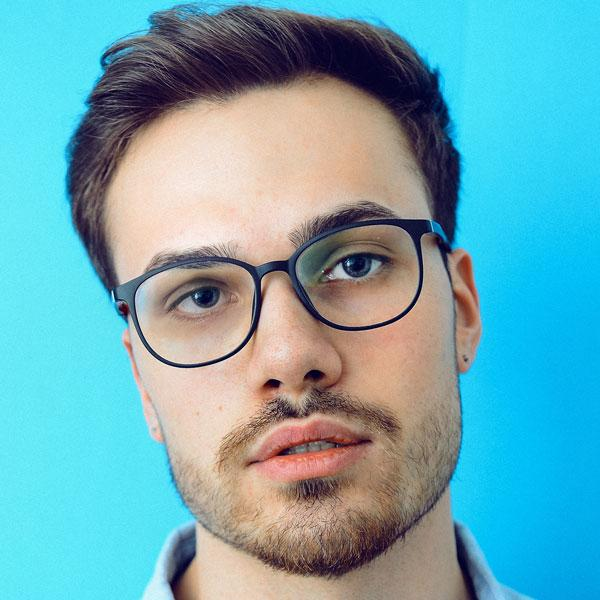Eyes: (304, 232, 404, 302), (152, 272, 248, 329)
